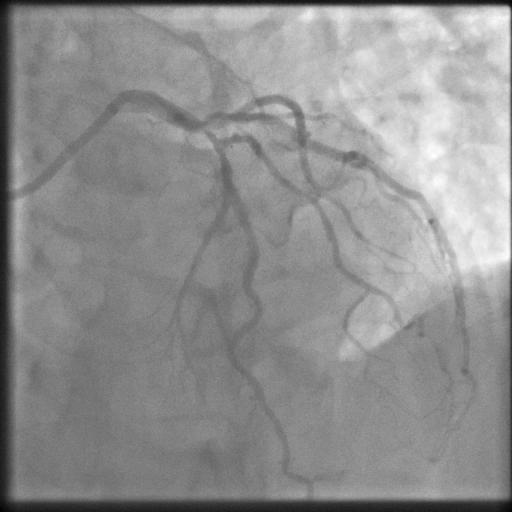Stenosis: (200, 117, 222, 155)
